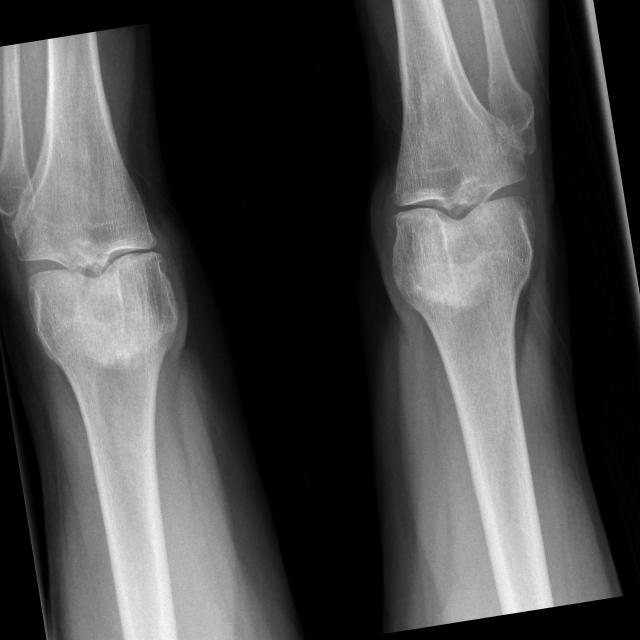Knee: (12, 198, 178, 332), (378, 143, 538, 280)
